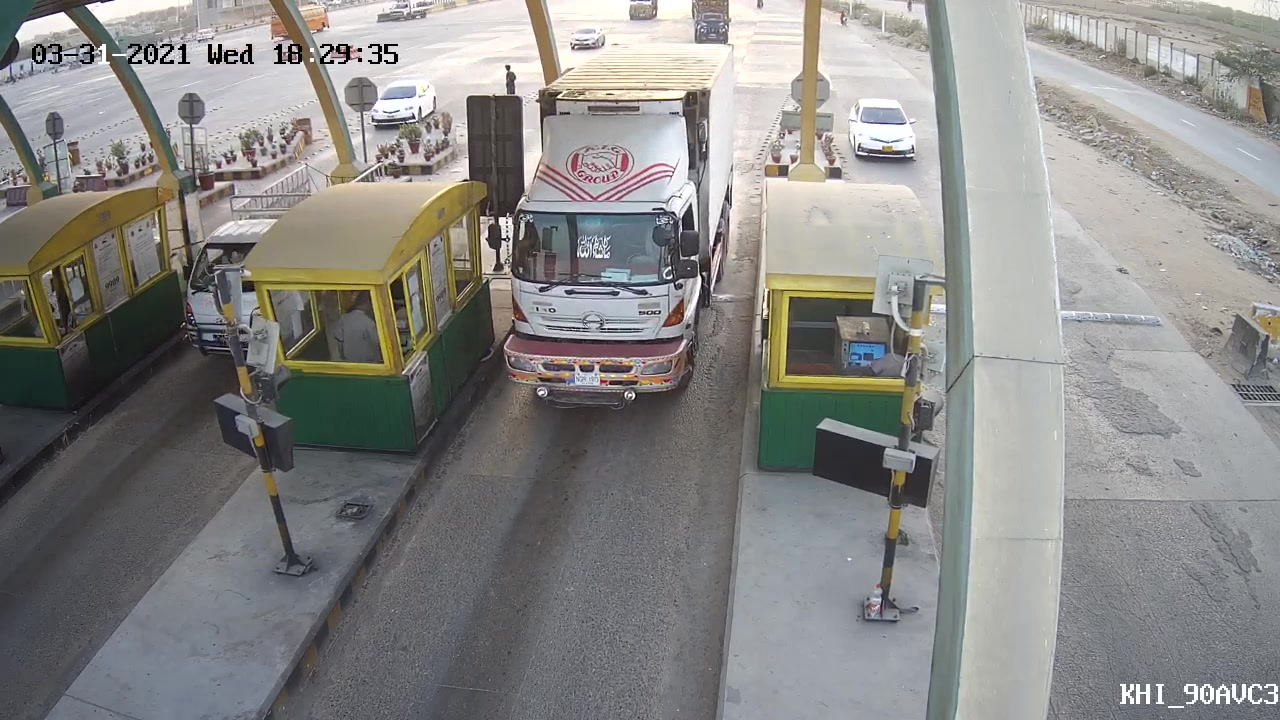F6: (469, 190, 722, 413)
